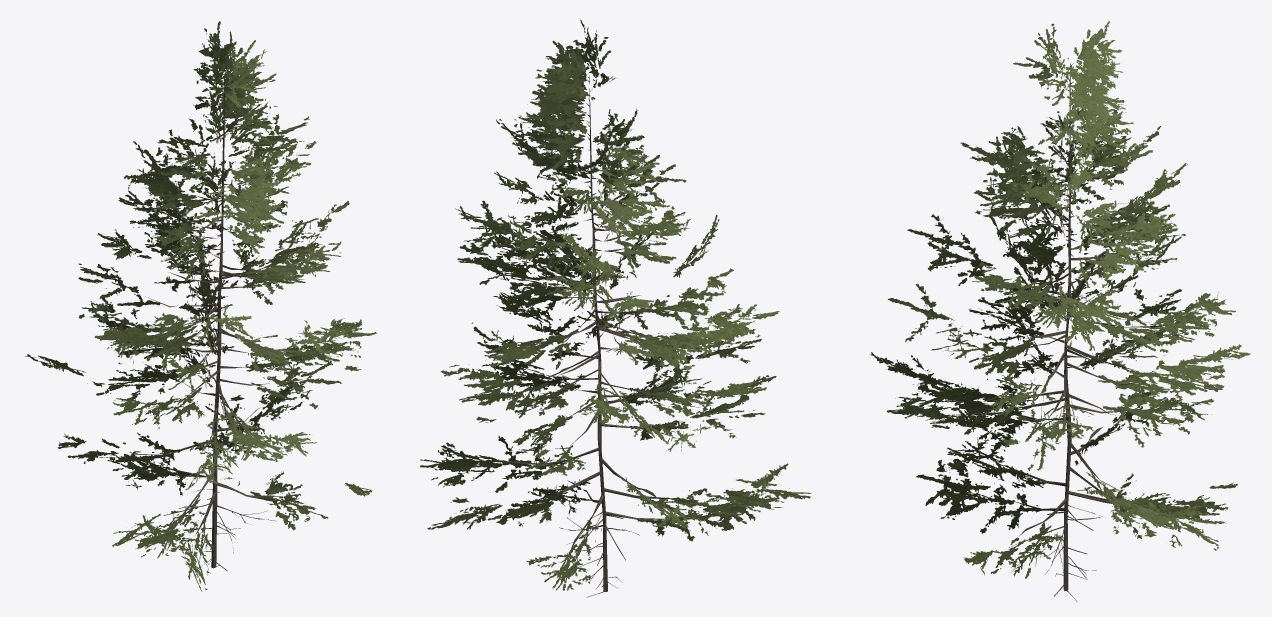
File: firsap_a_lod0.glb
3 views of the same model, side by side, from view 1: azimuth 30°, elevation 25°; view 2: azimuth 150°, elevation 25°; view 3: azimuth 270°, elevation 25° (orthographic). The views are drawn at different scales.
Parts seen in each view (by area): view 1: firsap_a_lod0_needles, firsap_a_lod0_branches_fir_sapling_medium_branches; view 2: firsap_a_lod0_needles, firsap_a_lod0_branches_fir_sapling_medium_branches; view 3: firsap_a_lod0_needles, firsap_a_lod0_branches_fir_sapling_medium_branches, firsap_a_lod0_branches_fir_sapling_medium_branches_dead.
Part boxes in pixels (<box>): firsap_a_lod0_needles: <box>25,21,377,591</box>; firsap_a_lod0_branches_fir_sapling_medium_branches: <box>130,76,299,568</box>; firsap_a_lod0_needles: <box>420,20,811,590</box>; firsap_a_lod0_branches_fir_sapling_medium_branches: <box>497,76,685,591</box>; firsap_a_lod0_needles: <box>870,21,1250,578</box>; firsap_a_lod0_branches_fir_sapling_medium_branches: <box>999,63,1177,590</box>; firsap_a_lod0_branches_fir_sapling_medium_branches_dead: <box>1009,505,1102,601</box>.
Size of the model in its own units: 5.24 by 8.91 by 5.59.
2 materials, 2 textured.
